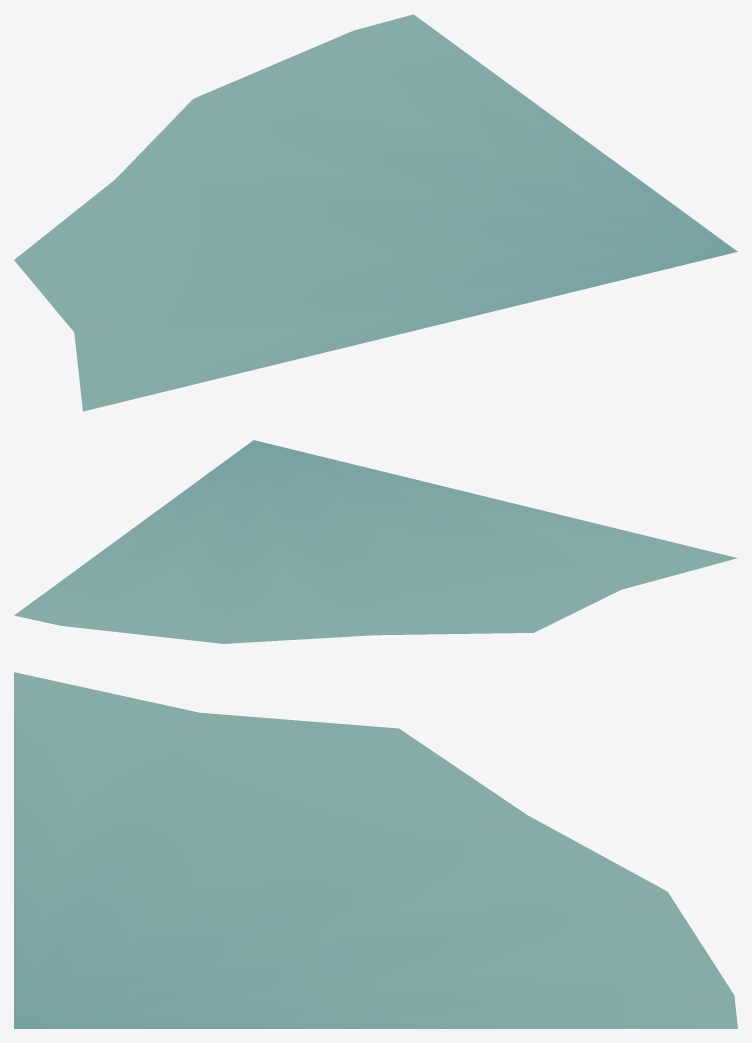
Rendered from water-14-14.glb.
The picture shows the model from 3 angles, top to bottom: view 1: azimuth 30°, elevation 25°; view 2: azimuth 150°, elevation 25°; view 3: azimuth 270°, elevation 25°; orthographic projection. The views are drawn at different scales.
Size of the model in its own units: 9.49 by 0 by 8.14.
